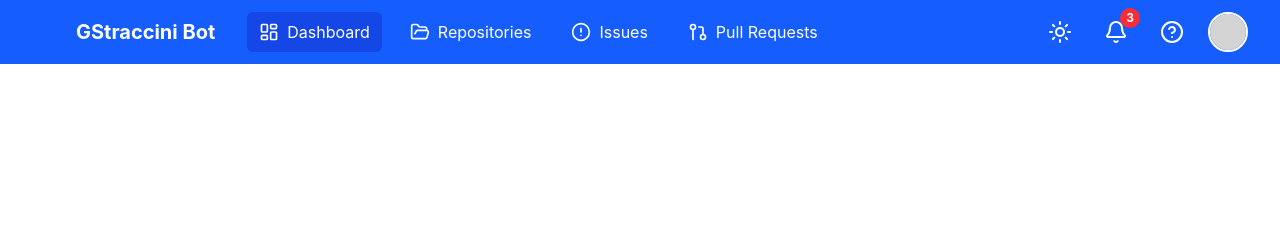
Header › opens notifications dropdown when notifications button is clicked
Click the button named "notifications" at (1116, 32), box [1096,12,1136,52]
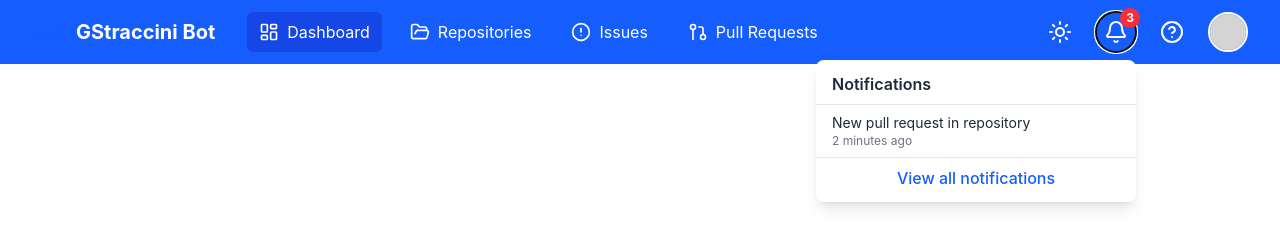
Result: the text "Notifications" is shown at [816,64,1136,105]
Result: the link "View all notifications" is shown at [897,168,1055,188]
